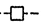Cable Termination Box: (7, 2, 28, 22)
